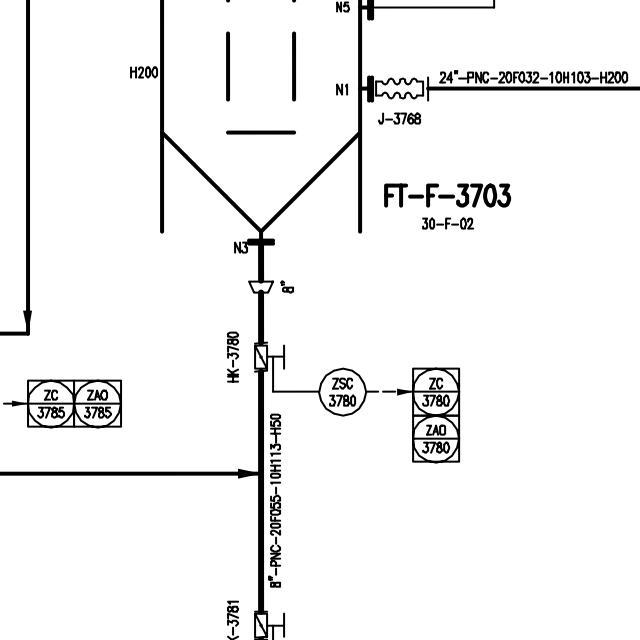BV: (250, 336, 290, 374), (250, 603, 292, 639)
EJ: (369, 73, 432, 103)
SP: (248, 275, 275, 297)
